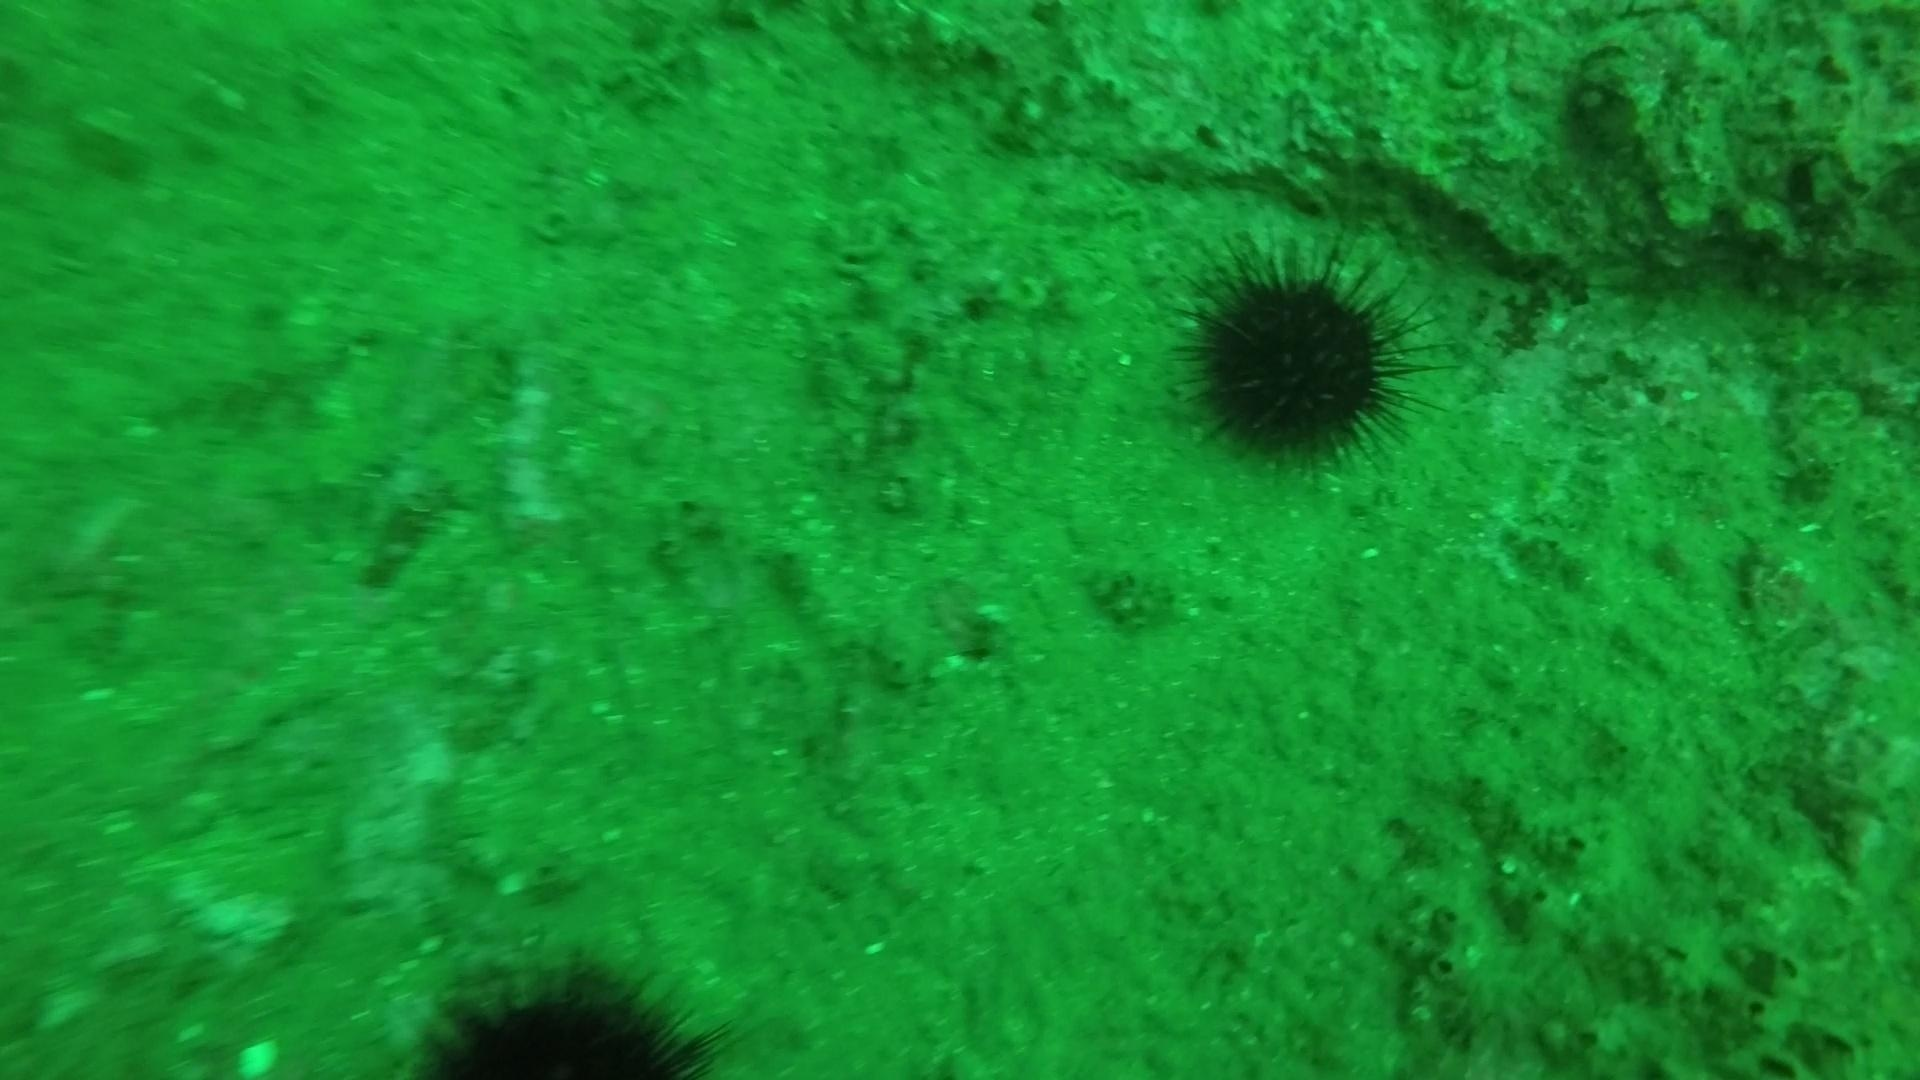echinus: (1166, 233, 1445, 477), (396, 944, 733, 1077)
